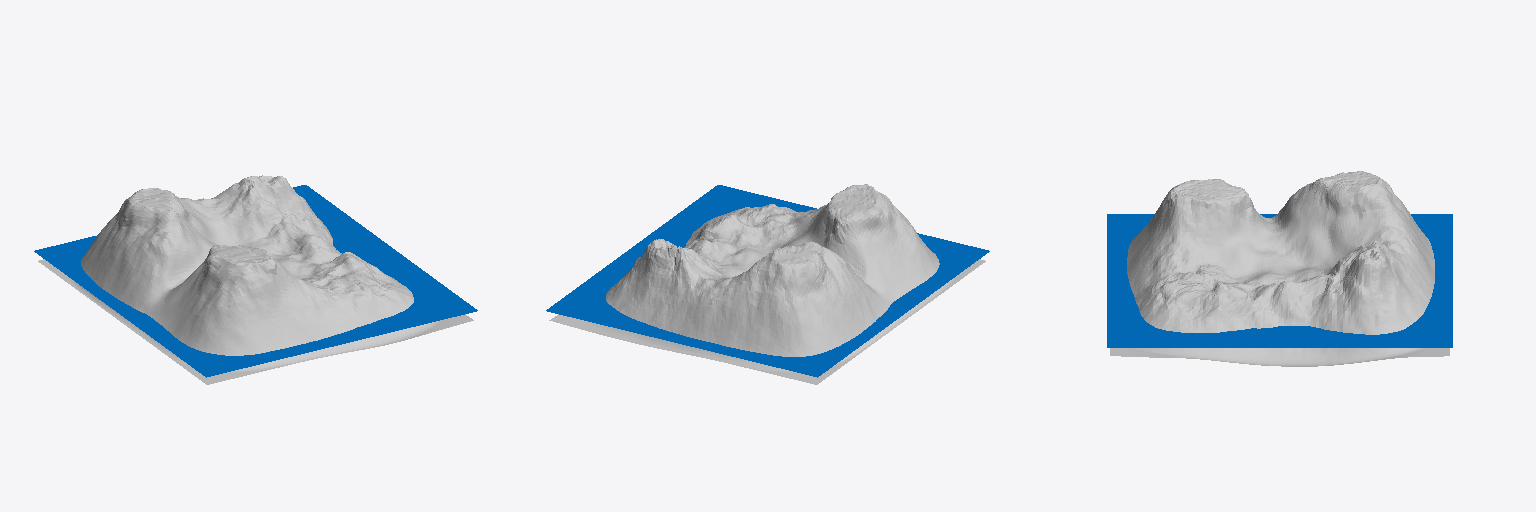
The model's file is island3.obj.
The picture shows the model from 3 angles: view 1: azimuth 30°, elevation 25°; view 2: azimuth 150°, elevation 25°; view 3: azimuth 270°, elevation 25°; orthographic projection.
Visible parts, largest first — view 1: Landscape, Landscape_plane; view 2: Landscape, Landscape_plane; view 3: Landscape, Landscape_plane.
Boxes of the visible parts, x1,y1,x2,y2 form: Landscape: [38, 175, 473, 384]; Landscape_plane: [34, 185, 477, 377]; Landscape: [549, 184, 985, 384]; Landscape_plane: [546, 185, 989, 377]; Landscape: [1110, 171, 1449, 366]; Landscape_plane: [1107, 214, 1452, 347].
Size of the model in its own units: 2072 by 672 by 2277.